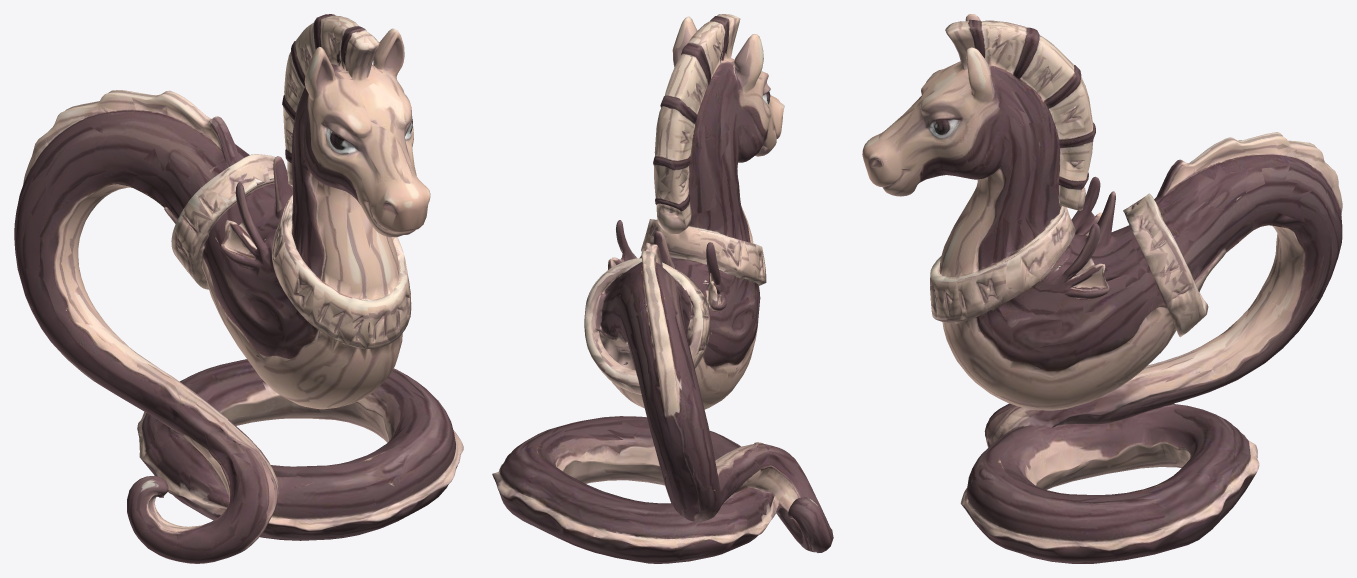
3 renders of one model, left to right at view 1: azimuth 30°, elevation 25°; view 2: azimuth 150°, elevation 25°; view 3: azimuth 270°, elevation 25°, orthographic. The views are drawn at different scales.
Visible parts, largest first — view 1: Mesh_0; view 2: Mesh_0; view 3: Mesh_0.
Part boxes in pixels (box(x1,y1,x2,y2)): Mesh_0: box(14, 14, 463, 563); Mesh_0: box(492, 14, 833, 563); Mesh_0: box(862, 14, 1342, 563).
Bounding box in the file's own units: 1.25 × 1.9 × 1.65.
Materials: 1 (1 with a texture image).
